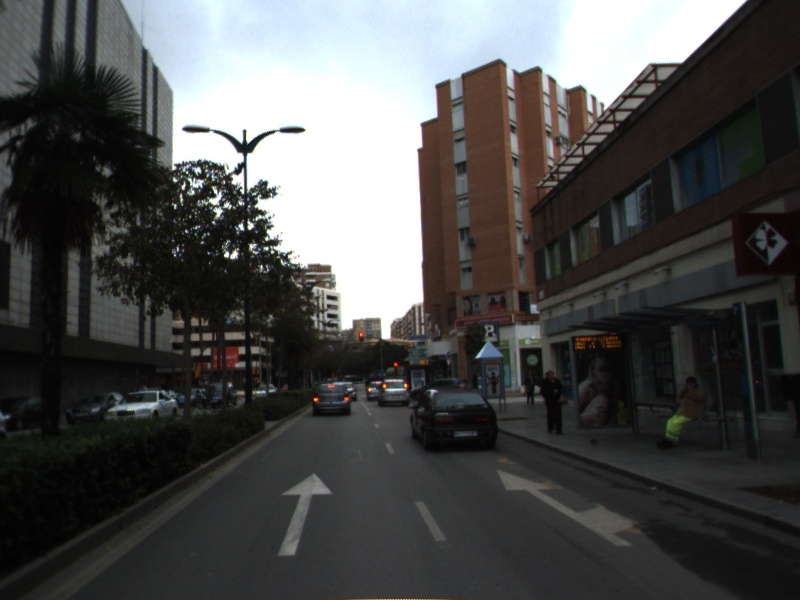STRAIGHT: (275, 471, 335, 558)
STRAIGHT_RIGHT: (495, 468, 640, 548)
